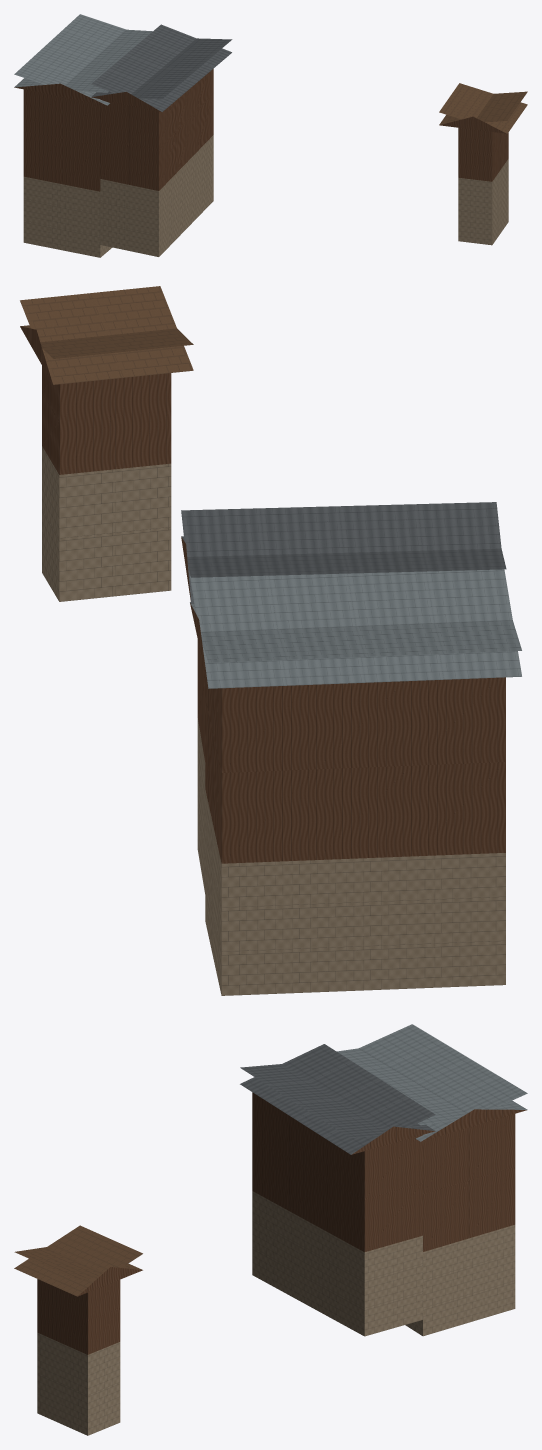
Rendered from bld_c15_26_392.gltf.
3 renders of one model, top to bottom at view 1: azimuth 30°, elevation 25°; view 2: azimuth 150°, elevation 25°; view 3: azimuth 270°, elevation 25°, orthographic. The views are drawn at different scales.
Parts seen in each view (by area): view 1: bld_c15_26_392; view 2: bld_c15_26_392; view 3: bld_c15_26_392.
Part boxes in pixels (x1=…): bld_c15_26_392: x1=14, y1=14, x2=527, y2=257; bld_c15_26_392: x1=20, y1=286, x2=521, y2=995; bld_c15_26_392: x1=14, y1=1024, x2=527, y2=1435.
Size of the model in its own units: 30.89 by 13.5 by 28.2.
Materials: 6 (6 with a texture image).
